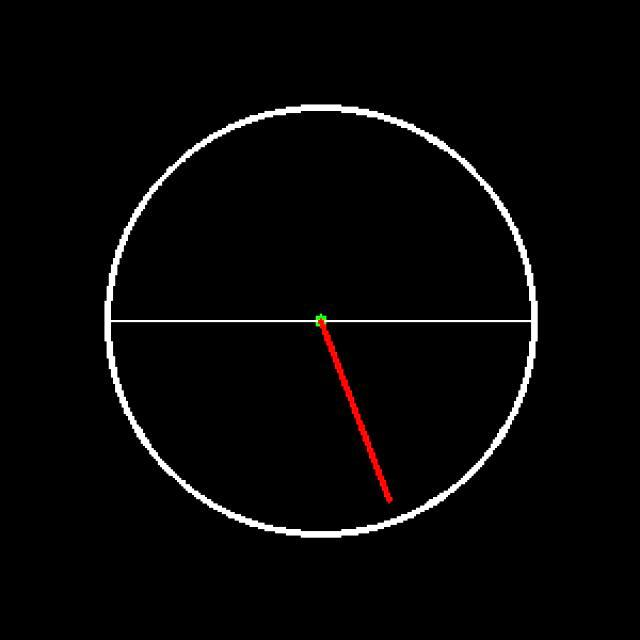Needle_Tip: (368, 465, 409, 511)
Needle_base: (285, 299, 358, 361)
